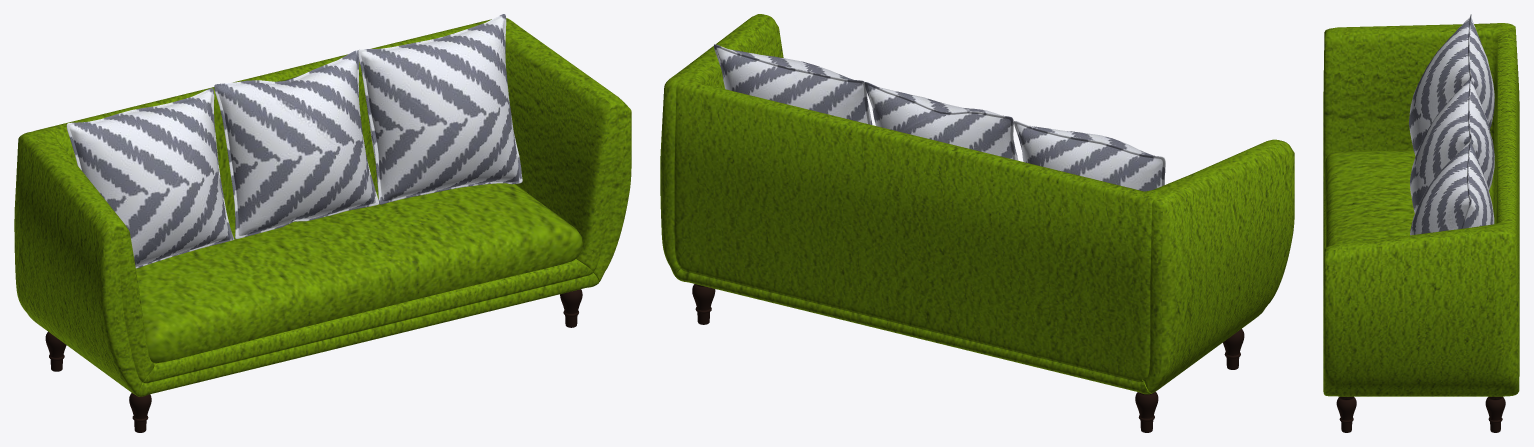
3 renders of one model, left to right at view 1: azimuth 30°, elevation 25°; view 2: azimuth 150°, elevation 25°; view 3: azimuth 270°, elevation 25°, orthographic. The views are drawn at different scales.
Parts seen in each view (by area): view 1: pillow_01_geo, couch, seat, Legs_02_geo; view 2: couch, pillow_01_geo, Legs_02_geo; view 3: couch, pillow_01_geo, seat, Legs_02_geo.
Part boxes in pixels (left/top/right/bottom): pillow_01_geo: left=66, top=14, right=522, bottom=268; couch: left=14, top=18, right=631, bottom=396; seat: left=136, top=183, right=582, bottom=363; Legs_02_geo: left=45, top=289, right=582, bottom=432; couch: left=660, top=14, right=1294, bottom=394; pillow_01_geo: left=714, top=44, right=1165, bottom=191; Legs_02_geo: left=692, top=284, right=1244, bottom=432; couch: left=1323, top=23, right=1519, bottom=396; pillow_01_geo: left=1409, top=14, right=1494, bottom=235; seat: left=1324, top=150, right=1494, bottom=247; Legs_02_geo: left=1336, top=396, right=1505, bottom=432.
Bounding box in the file's own units: 2.09 × 0.9805 × 0.7535.
Materials: 4 (3 with a texture image).
